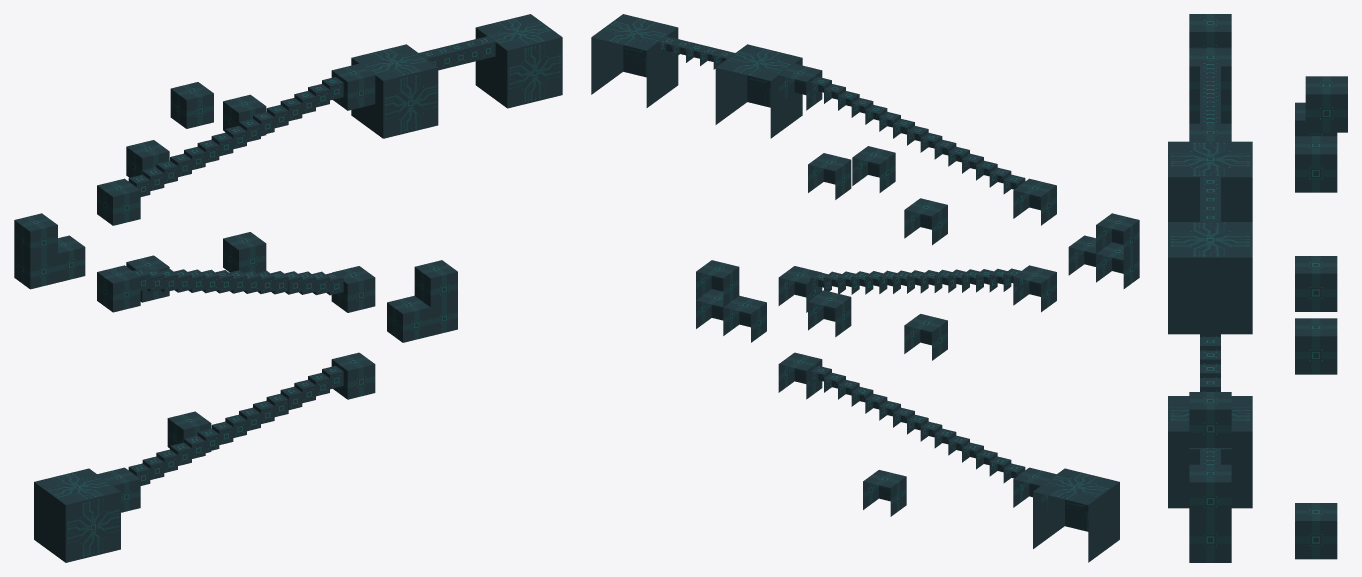
File: ActionMap.fbx
3 renders of one model, left to right at view 1: azimuth 30°, elevation 25°; view 2: azimuth 150°, elevation 25°; view 3: azimuth 270°, elevation 25°, orthographic. The views are drawn at different scales.
Visible parts, largest first — view 1: MapTile_A.001, MapTile_A.004, MapTile_A.003, MapTile_C.003, MapTile_C.001, MapTile_C.002, MapTile_B.004, MapTile_B.008, MapTile_B.013, MapTile_B.005, MapTile_B.014, MapTile_B.018 (+13 smaller); view 2: MapTile_A.001, MapTile_A.004, MapTile_A.003, MapTile_C.001, MapTile_C.003, MapTile_C.002, MapTile_B.013, MapTile_B.018, MapTile_B.009, MapTile_B.017, MapTile_B.012, MapTile_B.014 (+13 smaller); view 3: MapTile_A.004, MapTile_A.003, MapTile_A.001, MapTile_B.012, MapTile_B.014, MapTile_B.017, MapTile_B.018, MapTile_B.009, MapTile_B.003, MapTile_B.010, MapTile_B.016, MapTile_B.005 (+9 smaller).
Boxes of the visible parts, <box> form: MapTile_A.001: <box>34,468,120,562</box>; MapTile_A.004: <box>475,14,562,108</box>; MapTile_A.003: <box>351,44,438,138</box>; MapTile_C.003: <box>128,77,343,196</box>; MapTile_C.001: <box>128,365,343,485</box>; MapTile_C.002: <box>133,268,343,295</box>; MapTile_B.004: <box>97,265,140,312</box>; MapTile_B.008: <box>387,295,430,342</box>; MapTile_B.013: <box>14,213,57,260</box>; MapTile_B.005: <box>97,178,140,225</box>; MapTile_B.014: <box>414,260,457,307</box>; MapTile_B.018: <box>170,82,213,128</box>; MapTile_A.001: <box>1033,468,1119,562</box>; MapTile_A.004: <box>591,14,678,107</box>; MapTile_A.003: <box>715,44,802,138</box>; MapTile_C.001: <box>810,365,1025,486</box>; MapTile_C.003: <box>810,77,1025,197</box>; MapTile_C.002: <box>810,268,1025,294</box>; MapTile_B.013: <box>1096,213,1139,260</box>; MapTile_B.018: <box>852,146,895,192</box>; MapTile_B.009: <box>863,470,906,516</box>; MapTile_B.017: <box>808,290,851,337</box>; MapTile_B.012: <box>808,153,851,199</box>; MapTile_B.014: <box>696,260,739,306</box>; MapTile_A.004: <box>1168,222,1252,334</box>; MapTile_A.003: <box>1168,141,1252,221</box>; MapTile_A.001: <box>1168,396,1252,508</box>; MapTile_B.012: <box>1295,136,1337,192</box>; MapTile_B.014: <box>1189,464,1231,520</box>; MapTile_B.017: <box>1295,318,1337,374</box>; MapTile_B.018: <box>1305,76,1347,132</box>; MapTile_B.009: <box>1295,503,1337,559</box>; MapTile_B.003: <box>1189,392,1231,447</box>; MapTile_B.010: <box>1295,256,1337,311</box>; MapTile_B.016: <box>1189,520,1231,558</box>; MapTile_B.005: <box>1189,48,1231,104</box>.
Size of what is drawn, in the model's own units: 7600 by 5600 by 1700.
3 materials, 3 textured.
